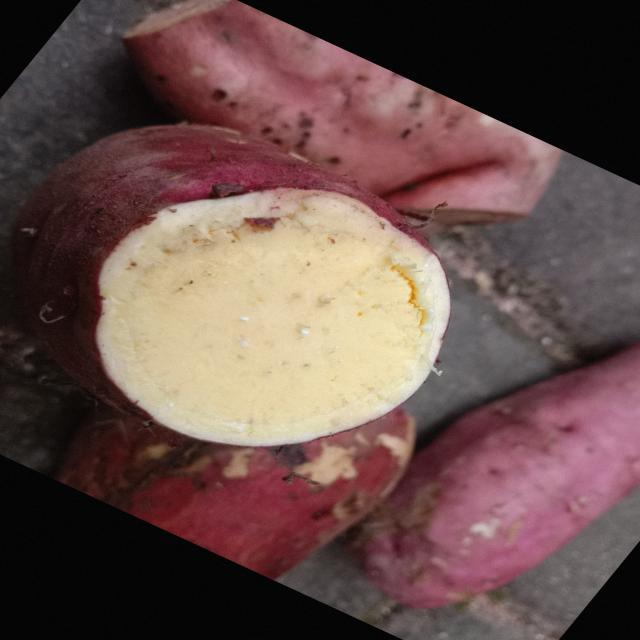Healthy Sweet Potato: (97, 189, 448, 446)
